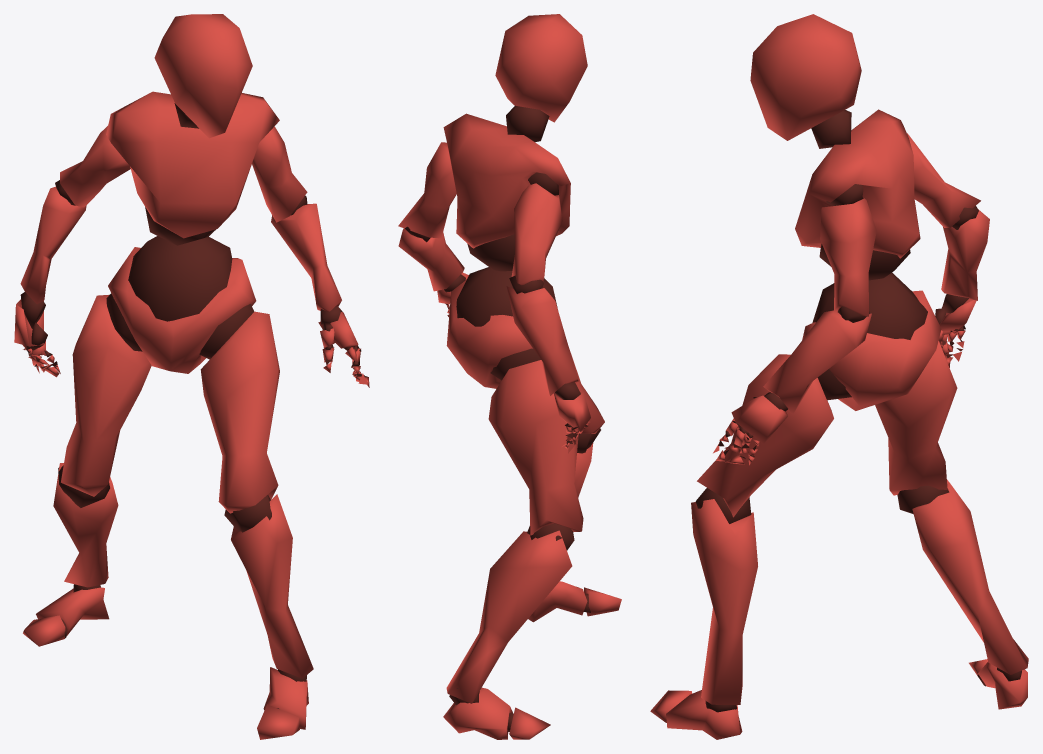
The picture shows the model from 3 angles, left to right: view 1: azimuth 30°, elevation 25°; view 2: azimuth 150°, elevation 25°; view 3: azimuth 270°, elevation 25°; orthographic projection. The views are drawn at different scales.
Parts seen in each view (by area): view 1: Beta_Surface; view 2: Beta_Surface; view 3: Beta_Surface.
Part boxes in pixels (left/top/right/bottom): Beta_Surface: left=14, top=14, right=369, bottom=739; Beta_Surface: left=398, top=14, right=621, bottom=739; Beta_Surface: left=650, top=14, right=1028, bottom=739.
Size of the model in its own units: 5.56 by 14.58 by 7.2.
